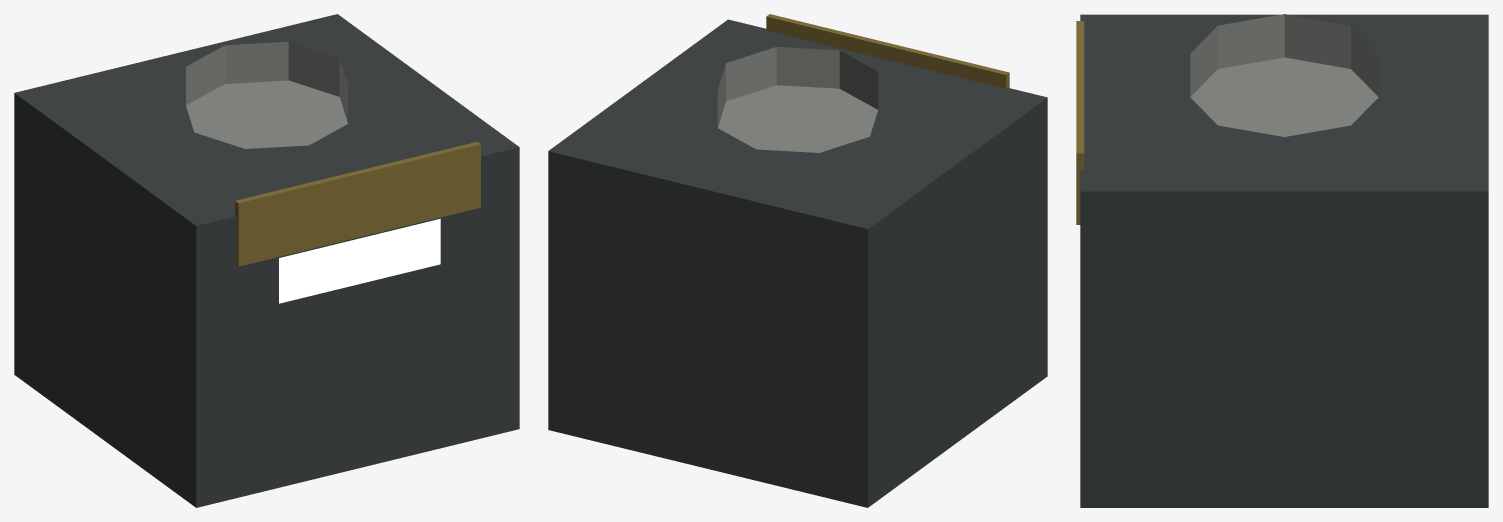
The model's file is chandelier.glb.
3 renders of one model, left to right at view 1: azimuth 30°, elevation 25°; view 2: azimuth 150°, elevation 25°; view 3: azimuth 270°, elevation 25°, orthographic. The views are drawn at different scales.
Parts seen in each view (by area): view 1: body, emissive_panel; view 2: body; view 3: body.
Boxes of the visible parts, x1,y1,x2,y2 form: body: (14, 14, 519, 507); emissive_panel: (279, 218, 440, 303); body: (548, 14, 1047, 507); body: (1076, 14, 1488, 507).
Size of the model in its own units: 0.96 by 0.925 by 0.9452.
Materials: 2 (2 with a texture image).
